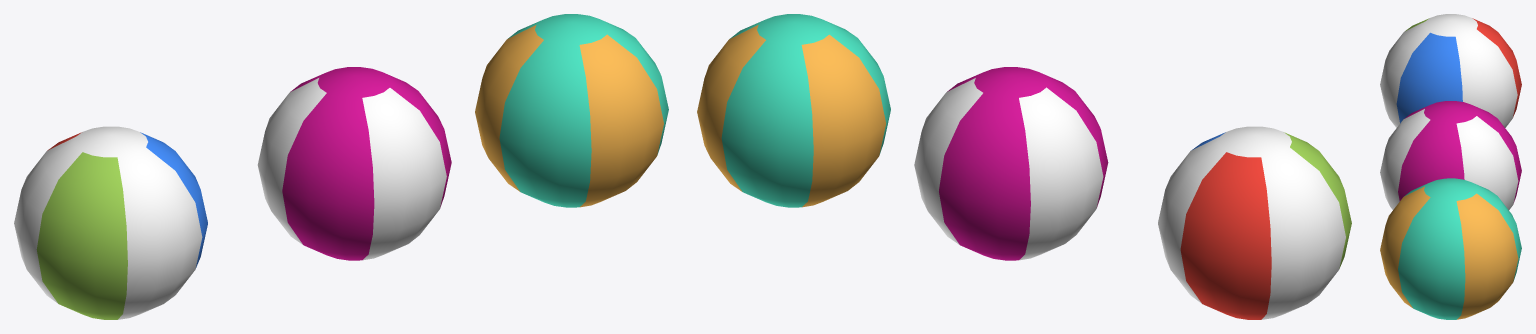
Rendered from PilatesBalls.fbx.
The picture shows the model from 3 angles, left to right: view 1: azimuth 30°, elevation 25°; view 2: azimuth 150°, elevation 25°; view 3: azimuth 270°, elevation 25°; orthographic projection. The views are drawn at different scales.
Parts seen in each view (by area): view 1: pilates_blue, pilates_purple, pilates_colorful; view 2: pilates_blue, pilates_purple, pilates_colorful; view 3: pilates_colorful, pilates_blue, pilates_purple.
Part boxes in pixels (bbox=[...]): pilates_blue: bbox=[14, 126, 207, 319]; pilates_purple: bbox=[257, 67, 451, 260]; pilates_colorful: bbox=[475, 14, 668, 207]; pilates_blue: bbox=[1158, 126, 1351, 319]; pilates_purple: bbox=[914, 67, 1108, 260]; pilates_colorful: bbox=[697, 14, 890, 207]; pilates_colorful: bbox=[1380, 178, 1521, 319]; pilates_blue: bbox=[1380, 14, 1521, 127]; pilates_purple: bbox=[1380, 101, 1521, 209].
Size of the model in its own units: 1165 by 312 by 312.
